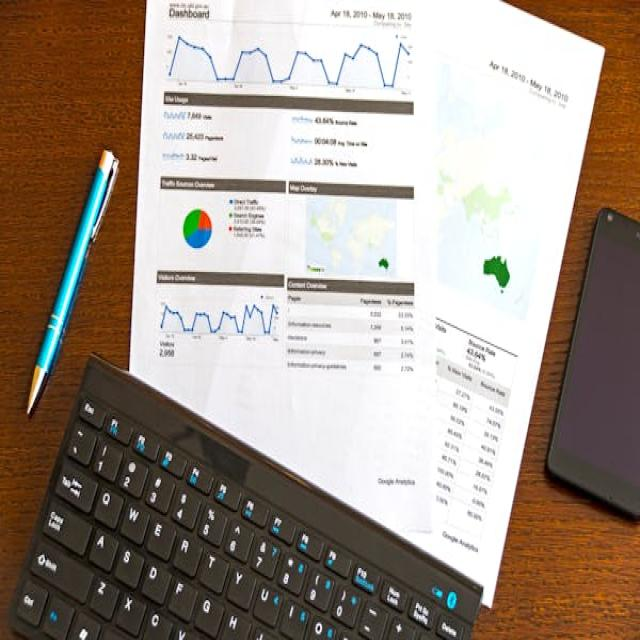pen: (16, 121, 127, 415)
